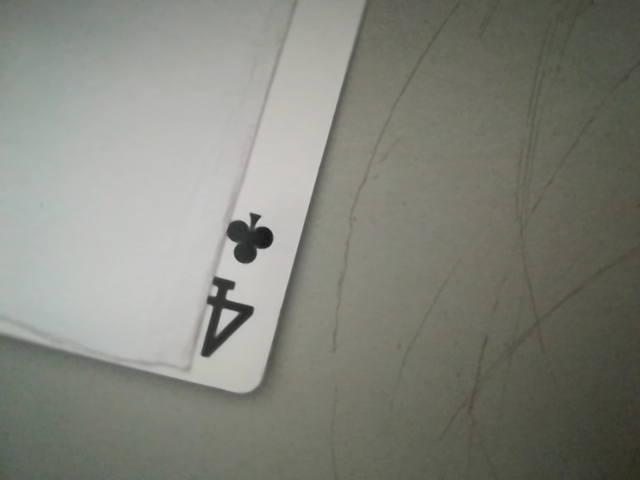mh 4: (181, 206, 291, 378)
